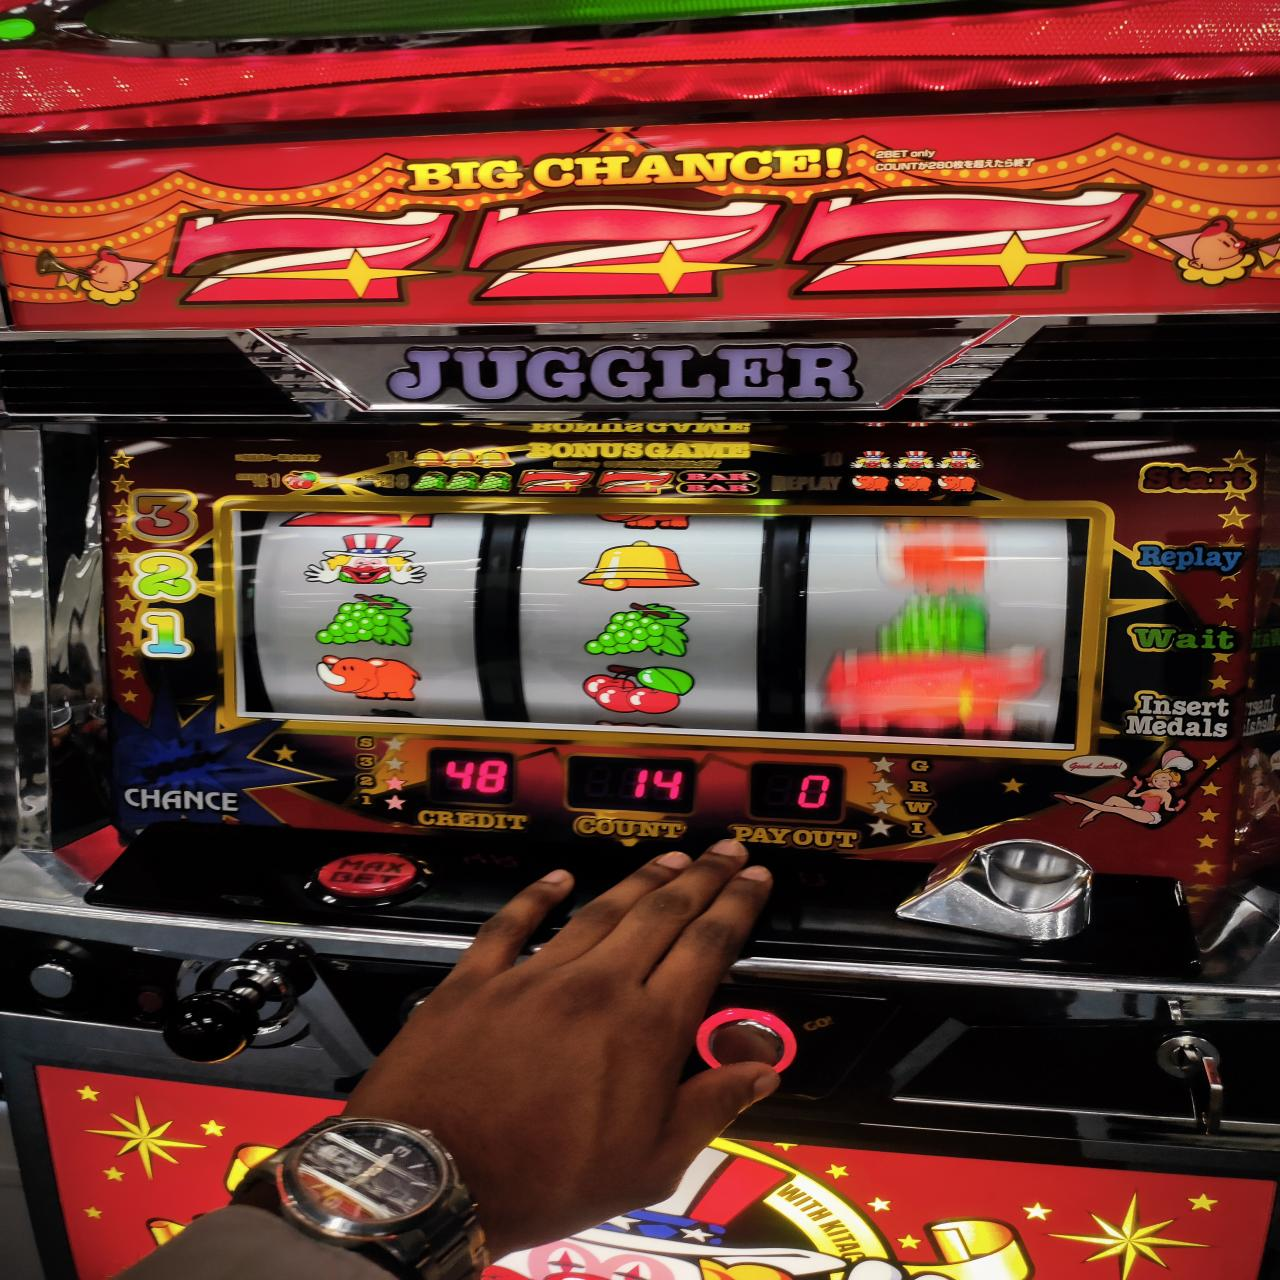8: (319, 655, 418, 701)
bell: (577, 539, 700, 591)
cherry: (584, 663, 695, 714)
clown: (302, 532, 423, 587)
grape: (581, 600, 689, 656), (316, 593, 416, 647)
rhino: (225, 499, 1080, 761)
